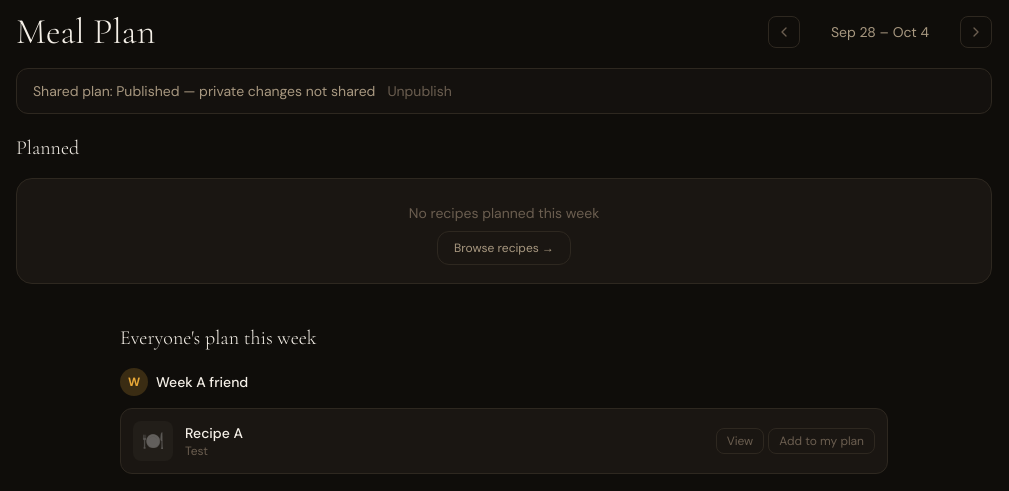
Scenario: actual Plan owner/week subscription boundary › also binds published status and friends’ plans to the selected owner/week
This screenshot has width=1009, height=491.
Expected: the text "Shared plan: Published — private changes not shared" is shown, [33,81,375,101]
Expected: the text "Week A friend" is shown, [156,372,248,392]
Click the button named "Next week" at [976, 32], box [960,16,992,48]
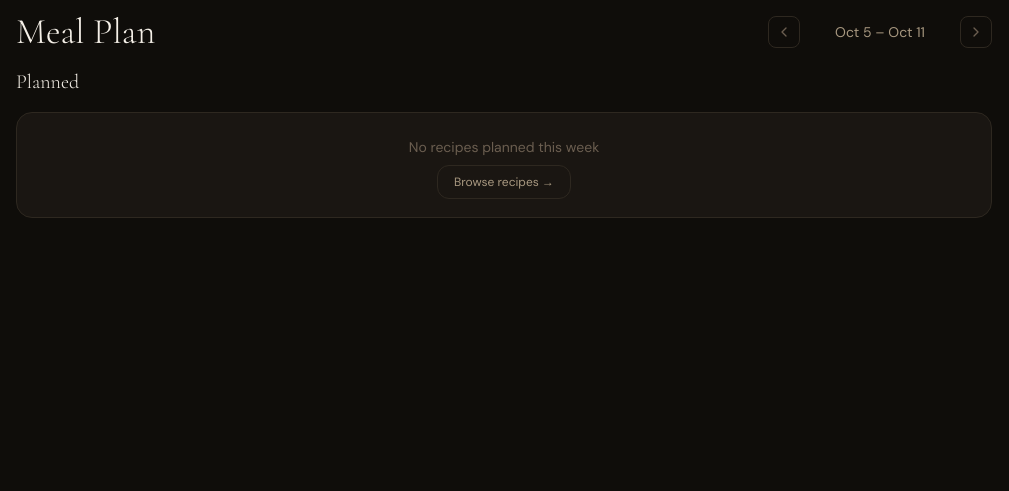
Now the text "Shared plan: Published" is gone
Now the text "Week A friend" is gone
Now the text "Recipe A" is gone
